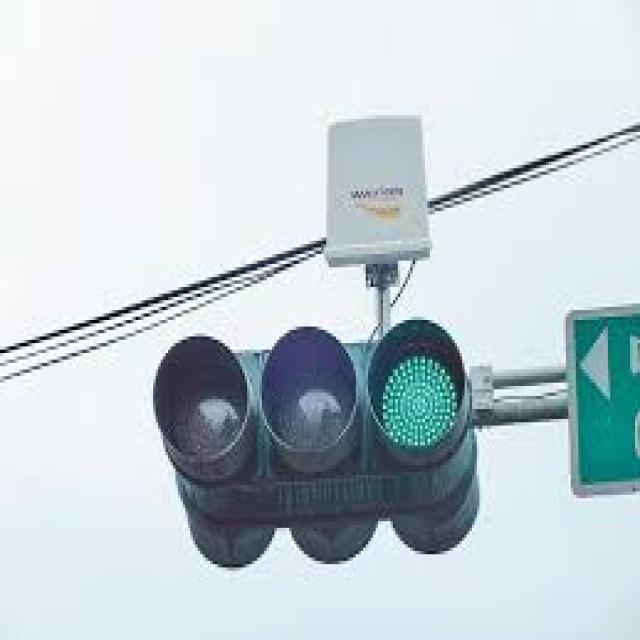green: (349, 328, 454, 473)
